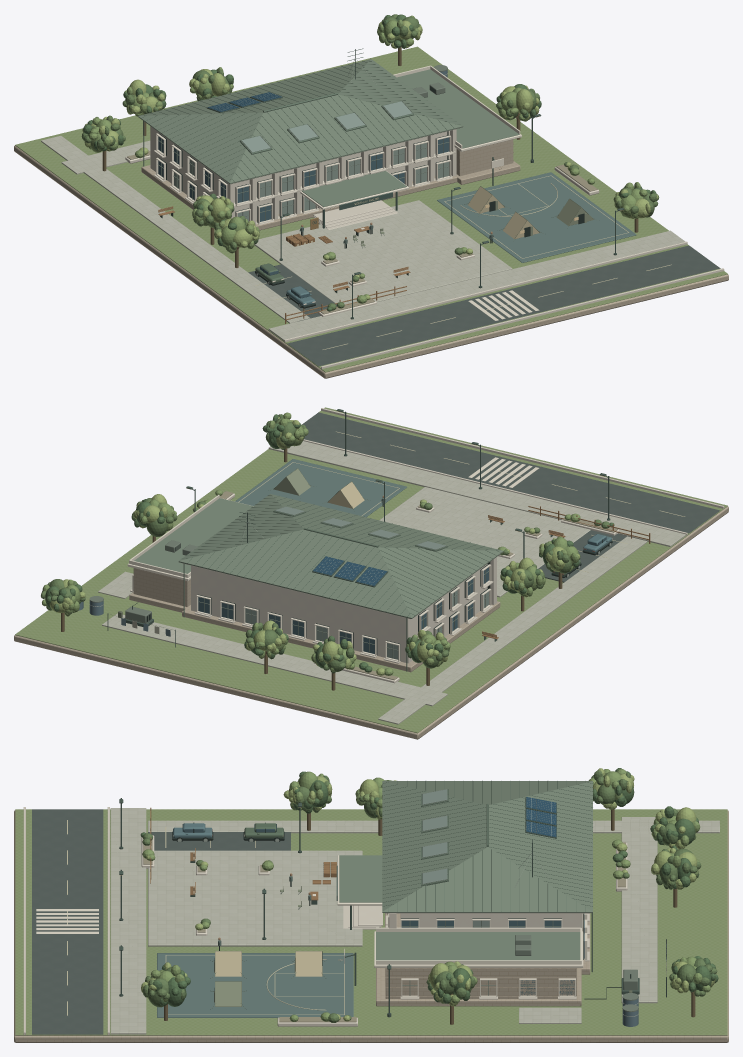
File: shelter-connected.glb
The picture shows the model from 3 angles, top to bottom: view 1: azimuth 30°, elevation 25°; view 2: azimuth 150°, elevation 25°; view 3: azimuth 270°, elevation 25°; orthographic projection. The views are drawn at different scales.
Parts seen in each view (by area): view 1: 材质批次_plaza_paving, 材质批次_sage_metal_roof, 材质批次_grass, 材质批次_asphalt, 材质批次_limestone, 材质批次_shelter_court_surface, 材质批次_stone_courses, 材质批次_warm_cream_trim, 材质批次_standing_seam, 材质批次_leaf_0, 材质批次_leaf_2, 材质批次_shelter_warm_glass (+12 smaller); view 2: 材质批次_grass, 材质批次_plaza_paving, 材质批次_sage_metal_roof, 材质批次_asphalt, 材质批次_limestone, 材质批次_stone_courses, 材质批次_standing_seam, 材质批次_warm_cream_trim, 材质批次_shelter_court_surface, 材质批次_leaf_2, 材质批次_leaf_0, 材质批次_leaf_1 (+12 smaller); view 3: 材质批次_grass, 材质批次_plaza_paving, 材质批次_sage_metal_roof, 材质批次_asphalt, 材质批次_stone_courses, 材质批次_shelter_court_surface, 材质批次_standing_seam, 材质批次_warm_cream_trim, 材质批次_limestone, 材质批次_shelter_terracotta_brick, 材质批次_leaf_1, 材质批次_leaf_3 (+16 smaller).
Part boxes in pixels (x1,y1,x2,y2): 材质批次_plaza_paving: (41, 135, 685, 340); 材质批次_sage_metal_roof: (138, 59, 519, 207); 材质批次_grass: (15, 46, 727, 372); 材质批次_asphalt: (248, 245, 720, 366); 材质批次_limestone: (125, 126, 724, 369); 材质批次_shelter_court_surface: (437, 172, 636, 262); 材质批次_stone_courses: (14, 143, 728, 378); 材质批次_warm_cream_trim: (156, 65, 539, 320); 材质批次_standing_seam: (141, 61, 460, 181); 材质批次_leaf_0: (88, 15, 647, 303); 材质批次_leaf_2: (82, 20, 658, 300); 材质批次_shelter_warm_glass: (174, 101, 449, 221); 材质批次_grass: (15, 407, 727, 733); 材质批次_plaza_paving: (98, 441, 685, 724); 材质批次_sage_metal_roof: (134, 494, 503, 618); 材质批次_asphalt: (302, 412, 720, 582); 材质批次_limestone: (130, 408, 724, 683); 材质批次_stone_courses: (14, 506, 728, 739); 材质批次_standing_seam: (182, 495, 500, 671); 材质批次_warm_cream_trim: (127, 457, 612, 661); 材质批次_shelter_court_surface: (235, 459, 406, 517); 材质批次_leaf_2: (49, 417, 579, 675); 材质批次_leaf_0: (42, 412, 580, 675); 材质批次_leaf_1: (41, 414, 609, 673); 材质批次_grass: (15, 809, 727, 1035); 材质批次_plaza_paving: (110, 808, 719, 1034); 材质批次_sage_metal_roof: (339, 781, 592, 960); 材质批次_asphalt: (32, 809, 290, 1034); 材质批次_stone_courses: (14, 810, 728, 1042); 材质批次_shelter_court_surface: (157, 953, 353, 1017); 材质批次_standing_seam: (382, 780, 592, 972); 材质批次_warm_cream_trim: (36, 829, 590, 997); 材质批次_limestone: (23, 807, 627, 1034); 材质批次_shelter_terracotta_brick: (338, 959, 576, 998); 材质批次_leaf_1: (142, 770, 717, 1022); 材质批次_leaf_3: (140, 768, 718, 1006).
Bounding box in the file's own units: 60 × 14.53 × 80.
Materials: 42 (6 with a texture image).
